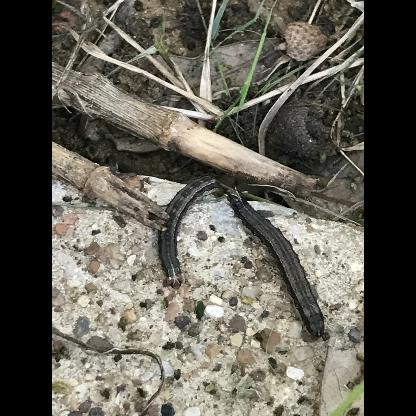Fall Armyworm Larvae: (220, 184, 328, 341), (154, 170, 228, 292)
